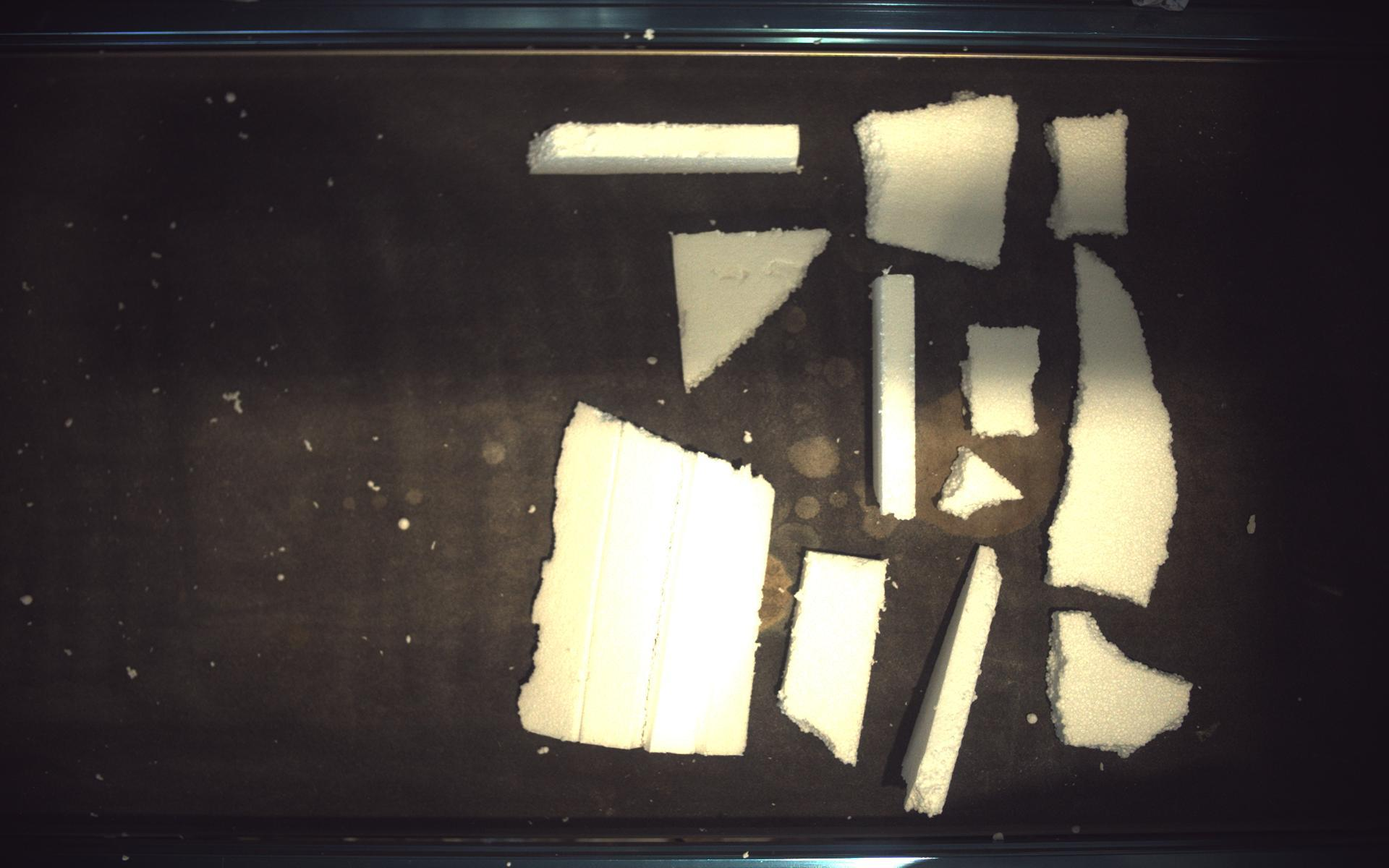foam: (519, 404, 775, 757), (1048, 244, 1180, 606), (856, 90, 1020, 268), (904, 547, 1003, 818), (673, 228, 832, 393), (779, 551, 890, 766), (1050, 613, 1194, 759), (528, 121, 801, 174), (873, 274, 918, 520), (1047, 109, 1131, 239), (963, 324, 1042, 437), (939, 447, 1025, 519)
